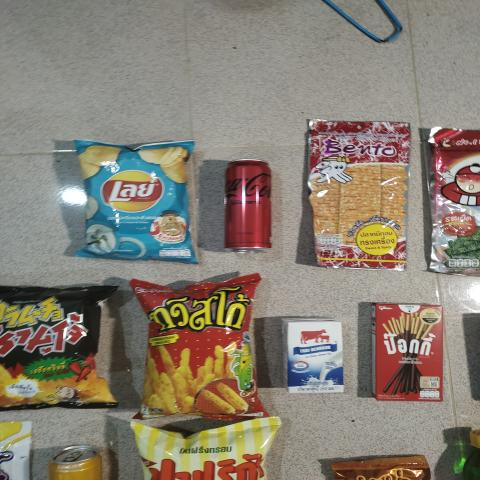bento_red: (304, 118, 418, 272)
coke_red: (213, 154, 273, 252)
karamujo: (0, 283, 112, 406)
lay_blue: (81, 150, 185, 256)
pokki: (373, 304, 446, 399)
thai_denmark: (281, 320, 346, 396)
twisco: (144, 280, 260, 412)
